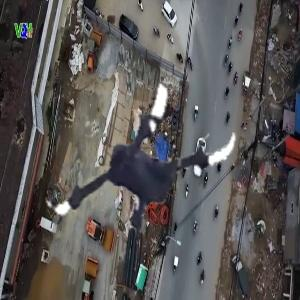drone: (39, 53, 245, 259)
